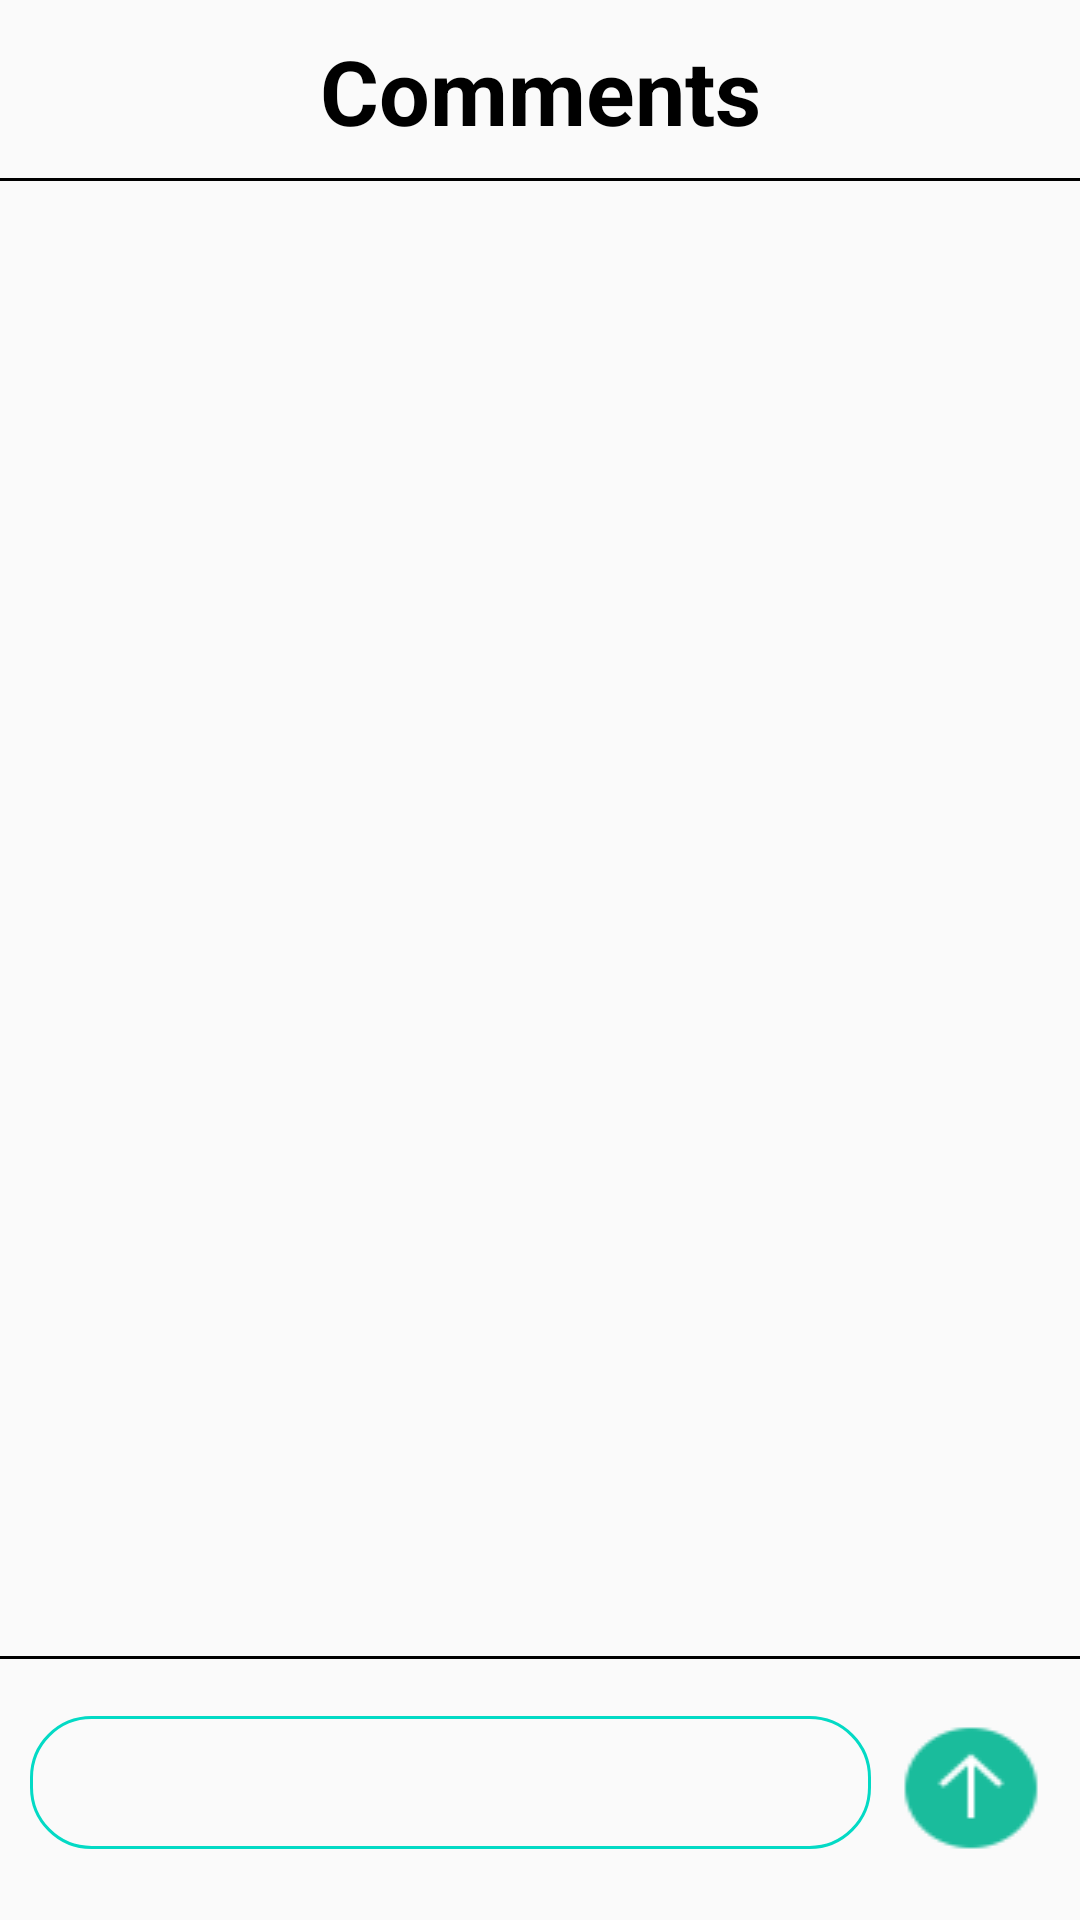

Point at icon controls on the screen. Image size 1080*1920, points as (x,y).
send: (971,1788)
